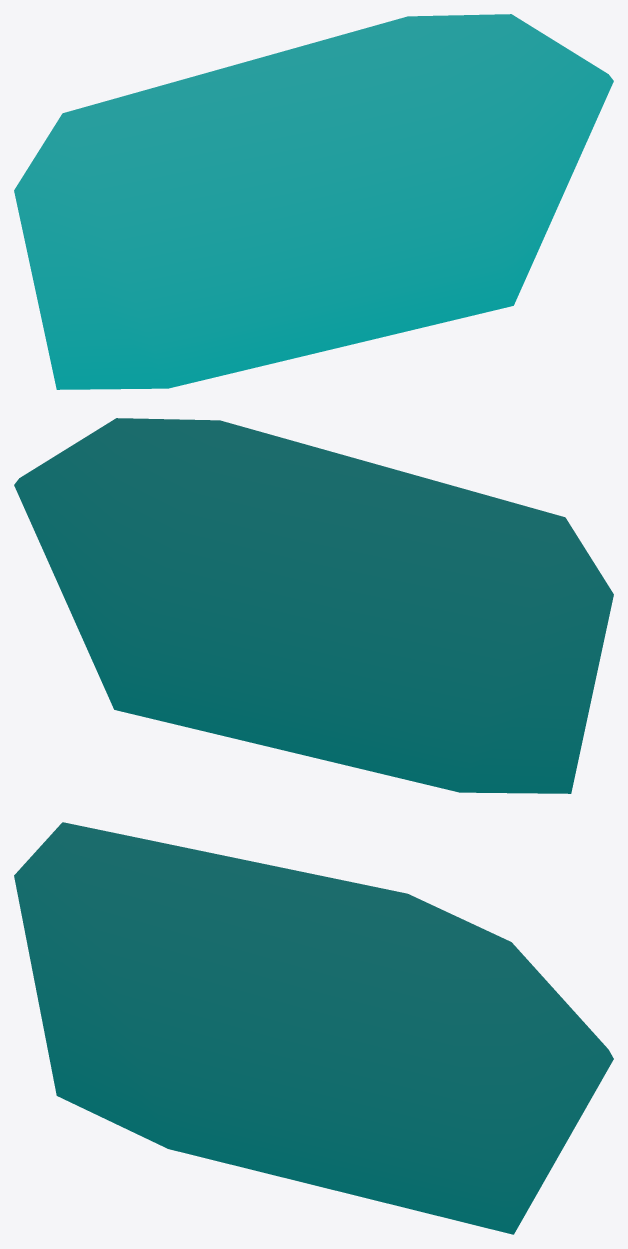
Rendered from Nordic_Coastal_Groundcover_vlqkdeaja_Mid_vlqkdeaja_VarL_LOD4.fbx.
3 renders of one model, top to bottom at view 1: azimuth 30°, elevation 25°; view 2: azimuth 150°, elevation 25°; view 3: azimuth 330°, elevation 25°, orthographic.
Visible parts, largest first — view 1: _hoki_VarL_LOD6; view 2: _hoki_VarL_LOD6; view 3: _hoki_VarL_LOD6.
Boxes of the visible parts, bbox=[...] form: _hoki_VarL_LOD6: bbox=[14, 14, 613, 389]; _hoki_VarL_LOD6: bbox=[14, 418, 613, 793]; _hoki_VarL_LOD6: bbox=[14, 822, 613, 1234].
Size of the model in its own units: 80.88 by 40.61 by 0.
